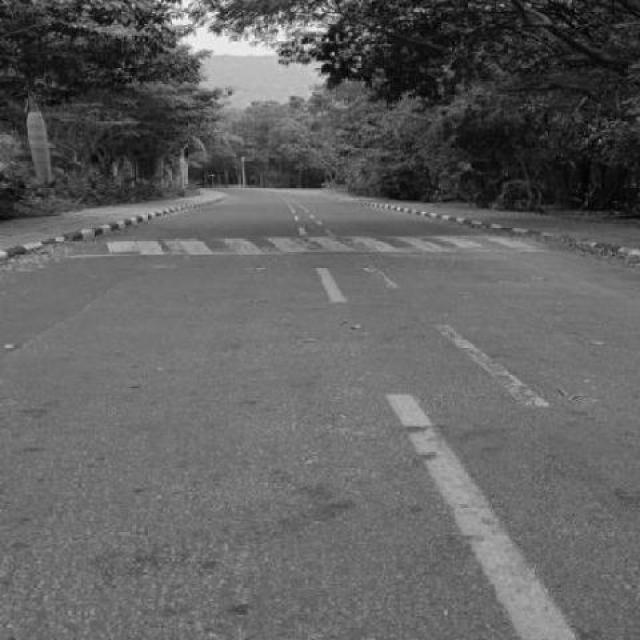Speed Bump: (44, 236, 552, 255)
